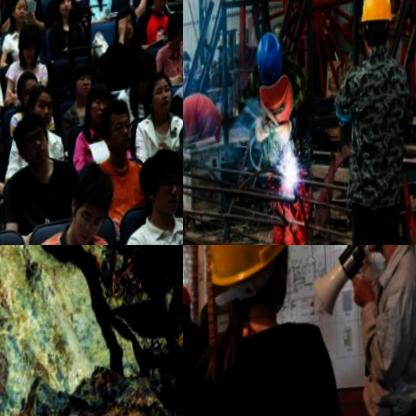head: (67, 170, 111, 245), (140, 151, 183, 225), (13, 112, 50, 177), (102, 104, 132, 159), (24, 86, 55, 134), (146, 77, 175, 126), (83, 87, 111, 136), (132, 56, 157, 105), (68, 67, 93, 107), (18, 23, 39, 68), (115, 10, 137, 51), (15, 73, 37, 113), (166, 15, 183, 56), (7, 0, 28, 32), (149, 0, 171, 20), (53, 0, 71, 21)
helmet: (199, 245, 303, 341), (254, 33, 288, 105), (359, 0, 395, 64), (183, 280, 193, 327)
